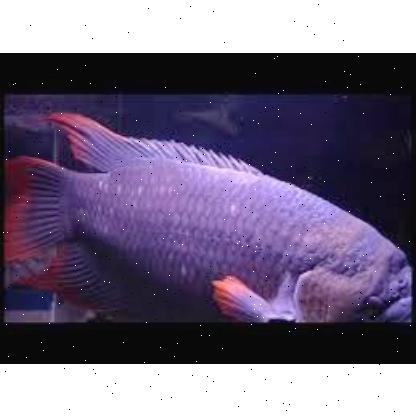gurame: (6, 114, 416, 324)
